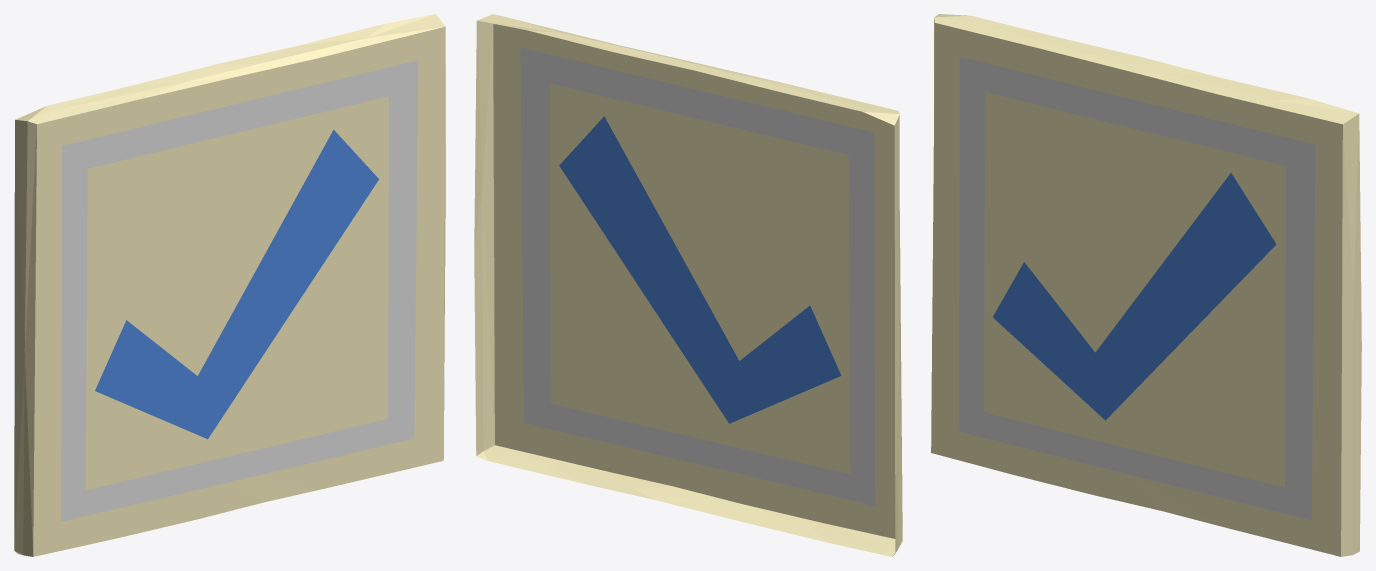
File: ui_button_toggle.glb
3 views of the same model, side by side, from view 1: azimuth 30°, elevation 25°; view 2: azimuth 150°, elevation 25°; view 3: azimuth 330°, elevation 25° (orthographic).
Parts seen in each view (by area): view 1: Cube; view 2: Cube; view 3: Cube.
Boxes of the visible parts, left/top/right/bottom form: Cube: left=14, top=14, right=445, bottom=556; Cube: left=474, top=14, right=902, bottom=556; Cube: left=931, top=14, right=1361, bottom=556.
Size of the model in its own units: 1.99 by 1.99 by 0.1075.
